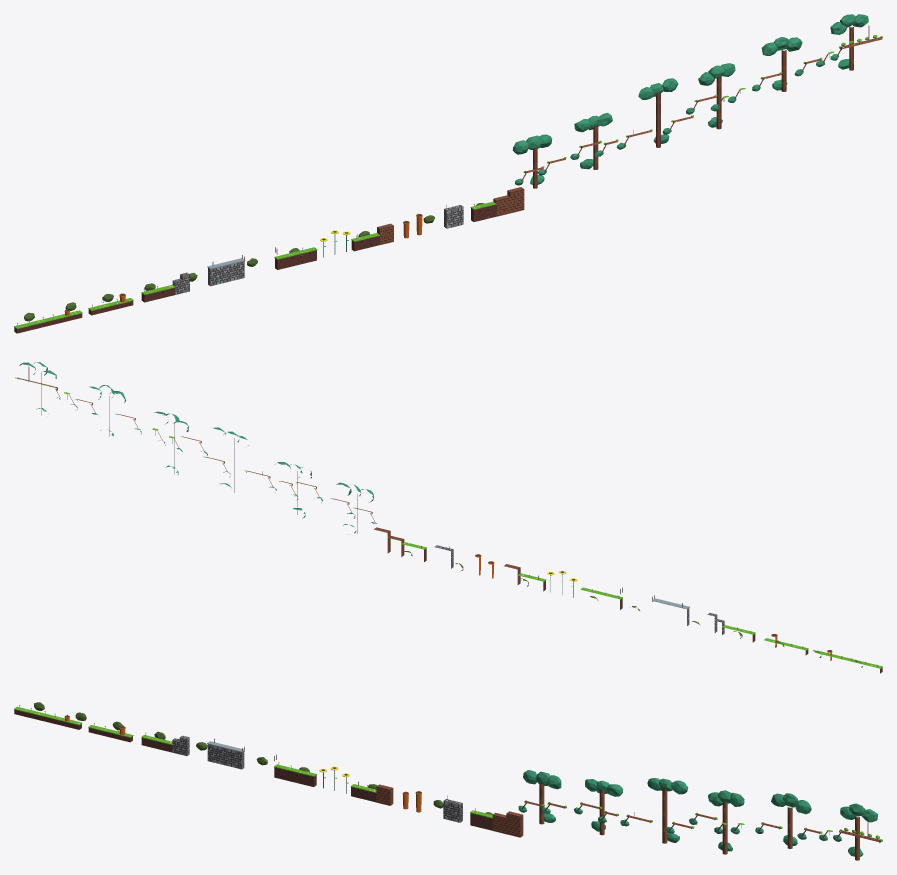
Rendered from level.glb.
3 views of the same model, one above another, from view 1: azimuth 30°, elevation 25°; view 2: azimuth 150°, elevation 25°; view 3: azimuth 330°, elevation 25° (orthographic).
Parts seen in each view (by area): view 1: Level; view 2: Level; view 3: Level.
Part boxes in pixels (x1,y1,x2,y2): Level: (14, 14, 882, 333); Level: (15, 362, 882, 673); Level: (14, 702, 882, 860).
Bounding box in the file's own units: 187 × 22.53 × 3.46.
Materials: 16 (6 with a texture image).
